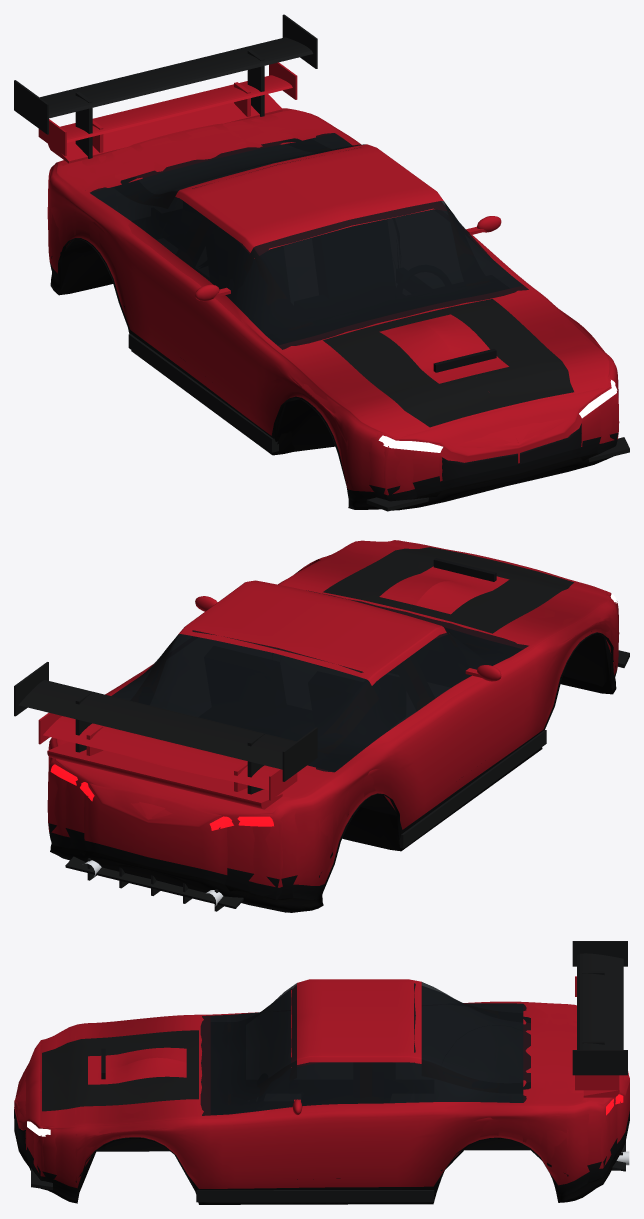
The model's file is kestrel.glb.
3 views of the same model, one above another, from view 1: azimuth 30°, elevation 25°; view 2: azimuth 150°, elevation 25°; view 3: azimuth 270°, elevation 25° (orthographic). The views are drawn at different scales.
Visible parts, largest first — view 1: body (×2), hood_3, spoiler_3, spoiler_2, hood_1, spoiler_1, bumper_1, grille, mirrors, headlights; view 2: body (×2), spoiler_3, hood_3, spoiler_2, bumper_1, spoiler_1, hood_1, taillights, hood_1_intake, mirrors; view 3: body (×2), hood_3, spoiler_3, bumper_1, hood_1, spoiler_2.
Part boxes in pixels (x1,y1,x2,y2): body (×2): (47,108,619,510); hood_3: (323,299,573,427); spoiler_3: (14,14,317,158); spoiler_2: (38,62,297,156); hood_1: (379,314,508,383); spoiler_1: (48,94,282,163); bumper_1: (128,334,629,511); grille: (442,423,581,481); mirrors: (195,216,501,301); headlights: (378,380,617,452); body (×2): (47,540,619,912); spoiler_3: (14,662,317,794); hood_3: (323,547,573,633); spoiler_2: (38,713,297,800); bumper_1: (65,650,629,911); spoiler_1: (47,742,282,809); hood_1: (379,566,509,614); taillights: (50,764,273,830); hood_1_intake: (433,558,496,581); mirrors: (195,596,501,681); body (×2): (14,979,629,1204); hood_3: (42,1030,198,1111); spoiler_3: (572,941,627,1075); bumper_1: (31,1141,625,1202); hood_1: (88,1047,186,1084); spoiler_2: (575,976,619,1090).
Size of the model in its own units: 2.12 by 1.25 by 4.45.
